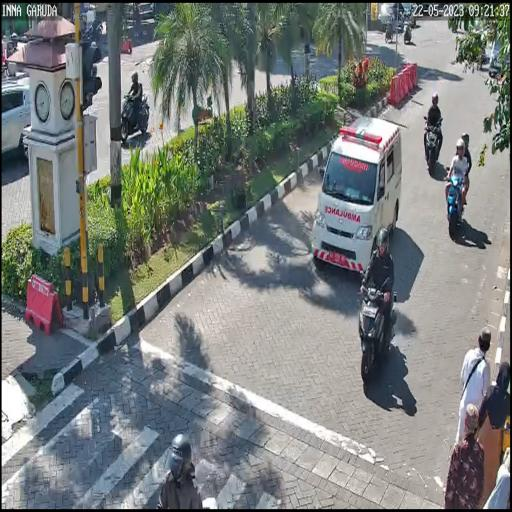mobil: (311, 104, 401, 274)
motor: (351, 249, 400, 382), (421, 108, 446, 184), (445, 165, 467, 249)
